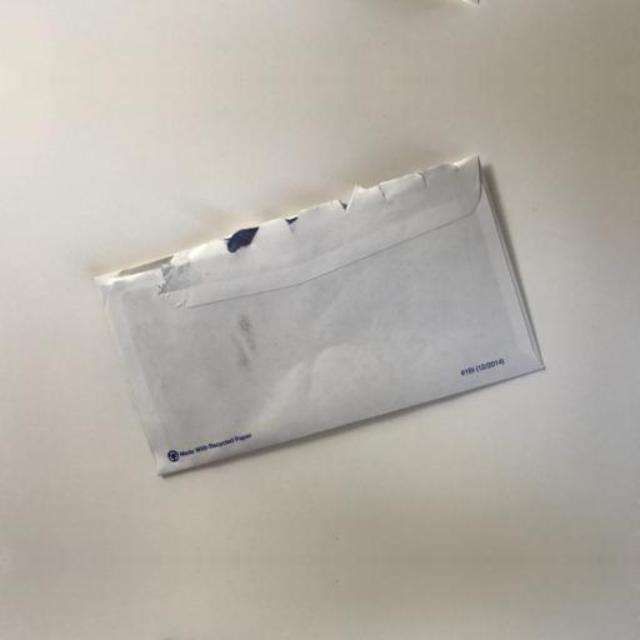paper: (33, 138, 561, 502), (33, 617, 561, 640), (33, 0, 561, 22)
